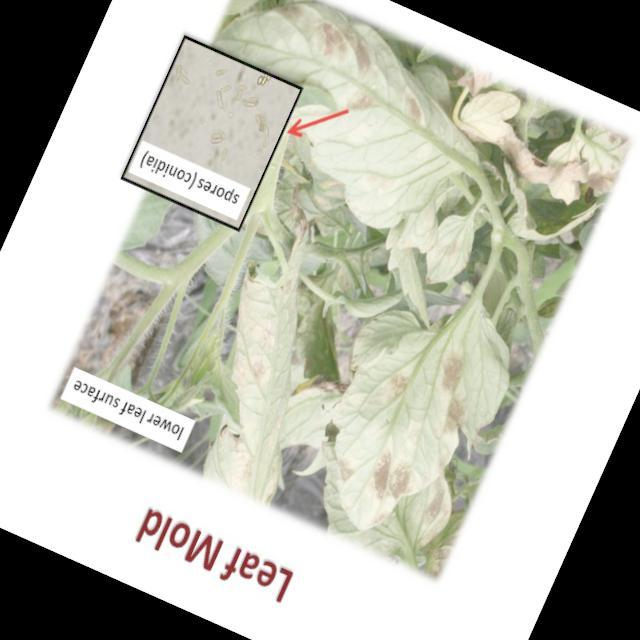Tomato mold leaf: (290, 258, 540, 566), (262, 10, 509, 256), (166, 225, 376, 504), (415, 200, 489, 298)
